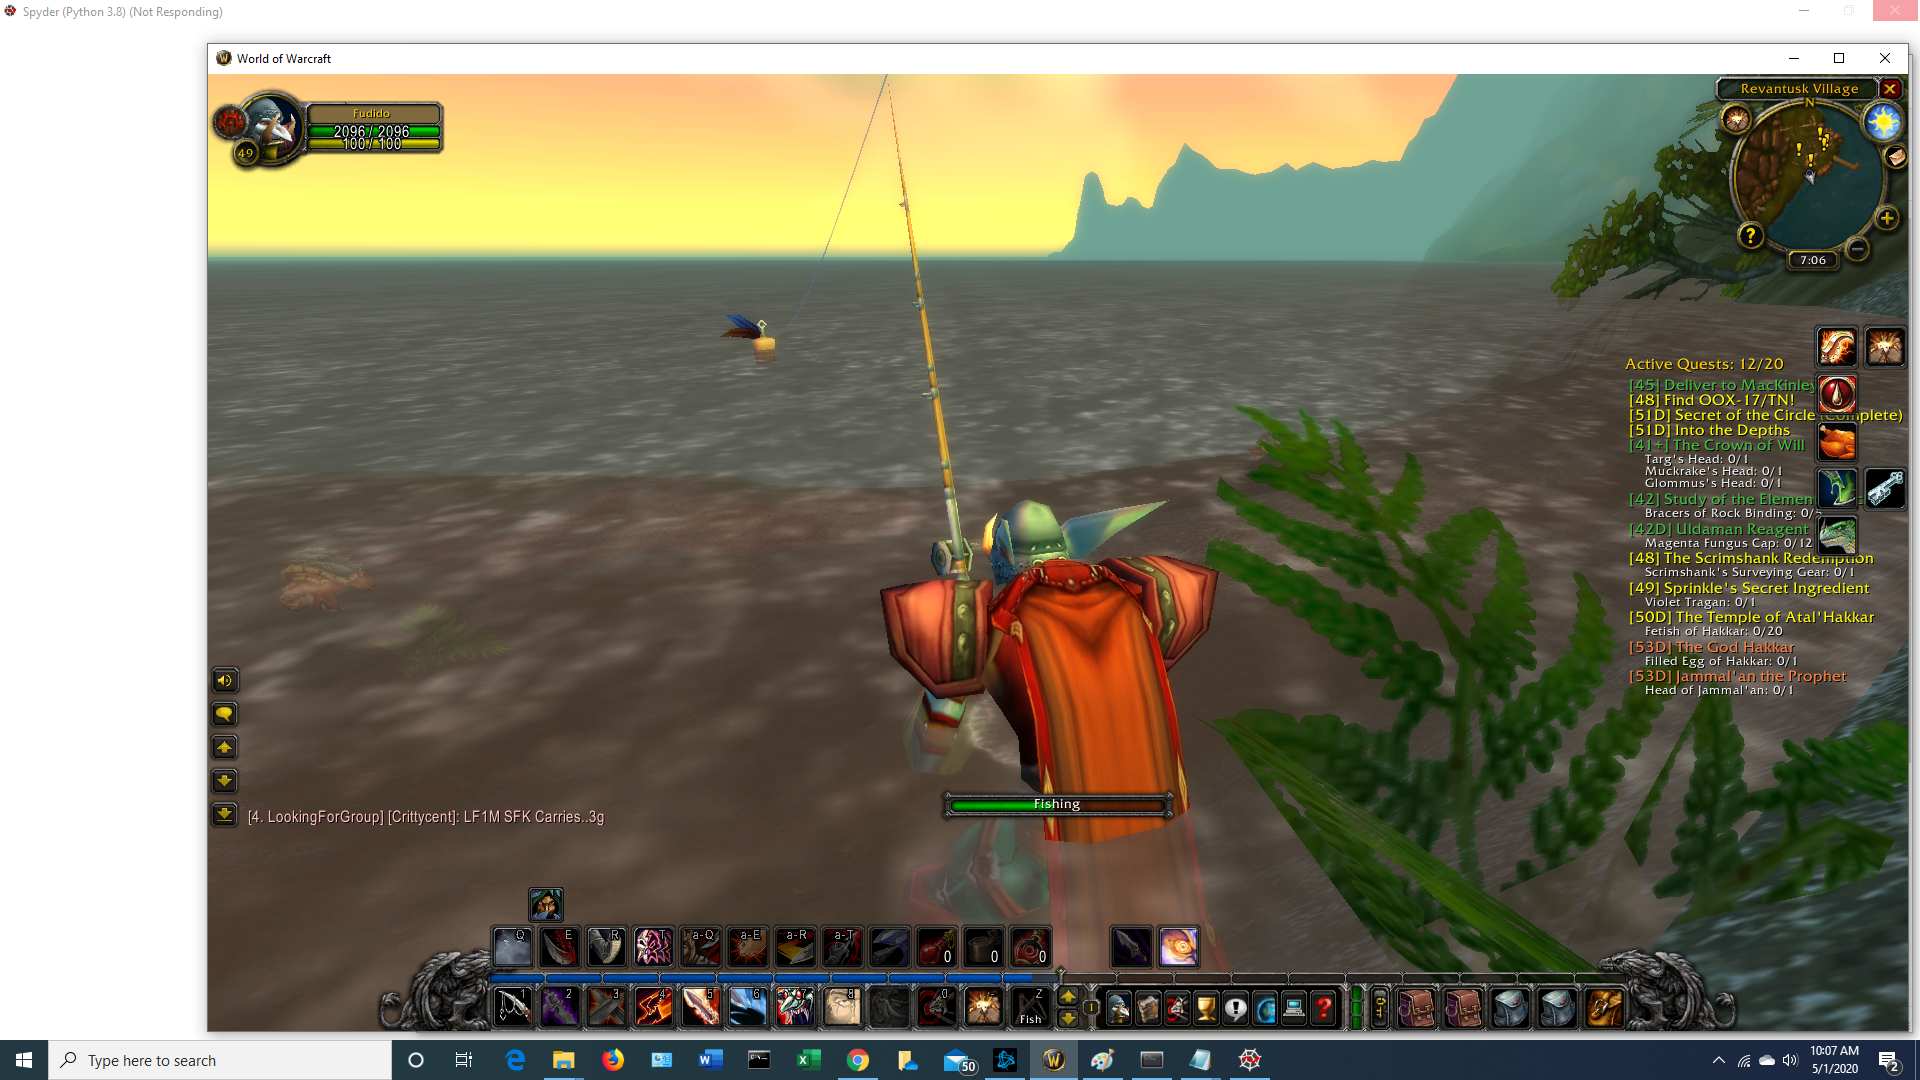bobble: (719, 306, 785, 371)
